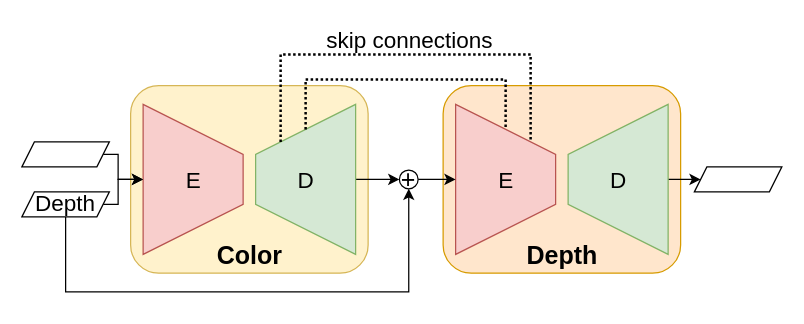
This 804x324 diagram has some shape labels left out. The shapes that lost their labels are listed below. From the top down, each one's centre as x and y in pixels, then its label:
At point (65, 154): "RGB".
At point (737, 179): "Depth'".
